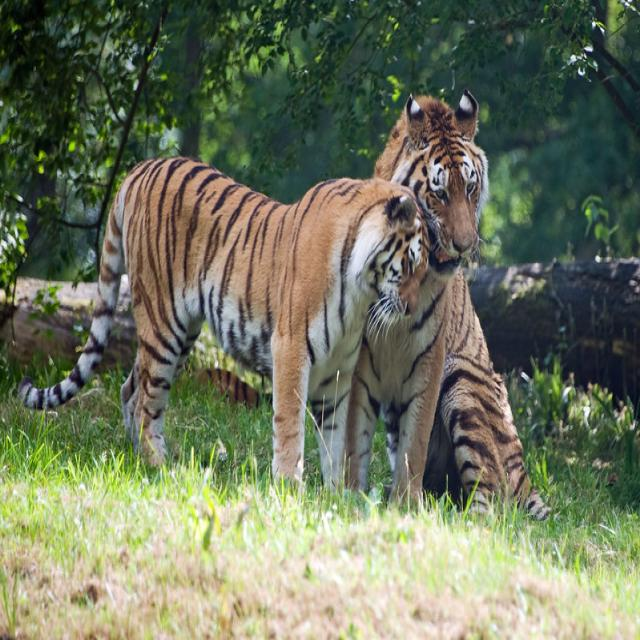Tiger: (19, 146, 430, 500), (343, 80, 564, 530)
